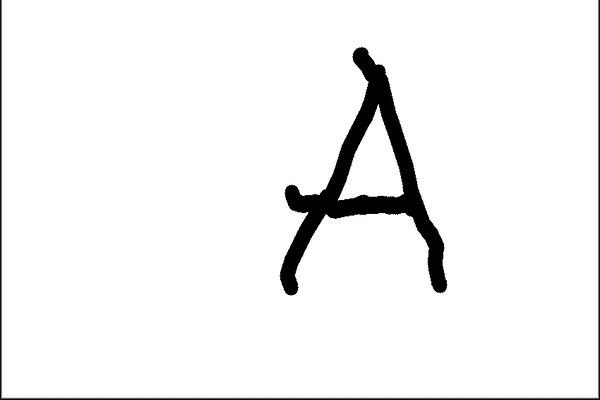A: (270, 43, 462, 308)
